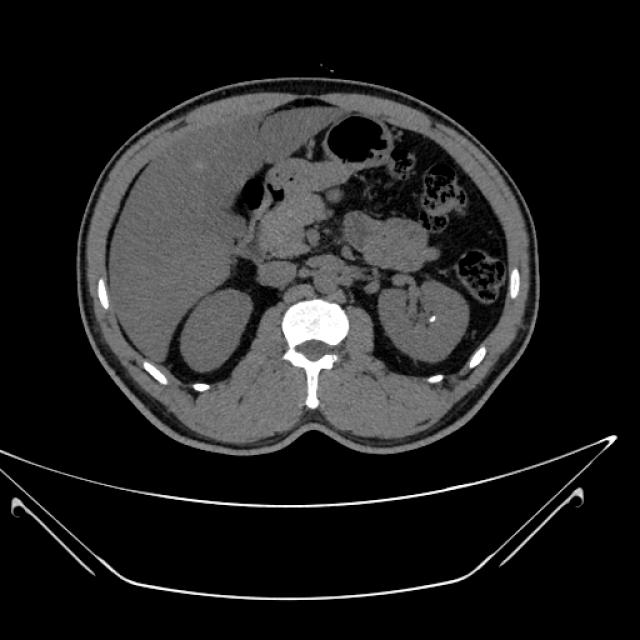kidney: (385, 286, 465, 362), (185, 291, 250, 368)
stone: (430, 316, 436, 322)
